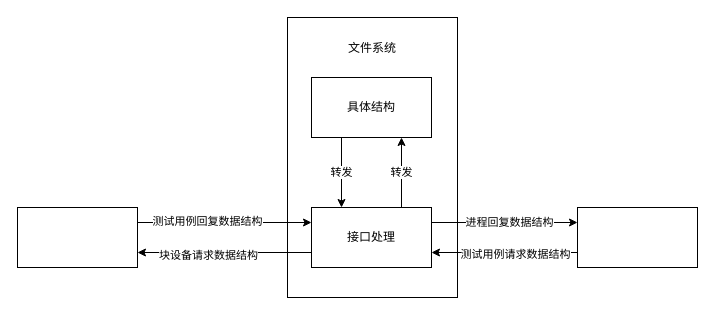
Image size: 715x315. Some labels were removed from this diagram. The centre of each missing label's shape, as x and y in pixels:
"测试块设备" goes at (77,237).
"测试空盒" goes at (637,237).
